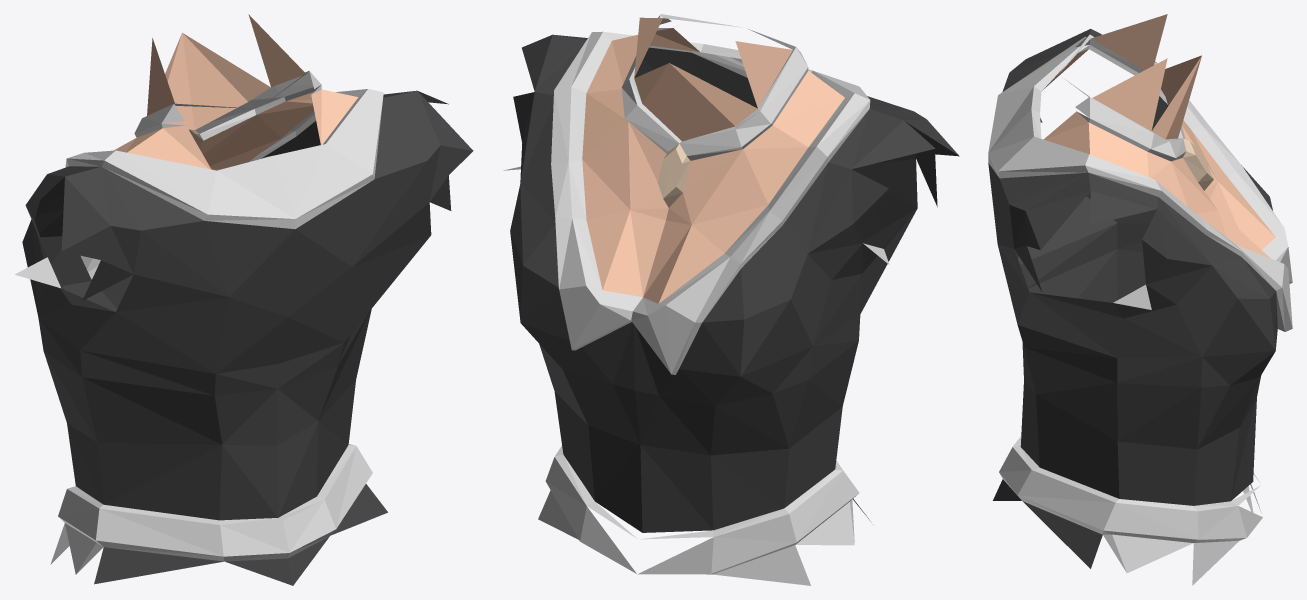
The model's file is Mother_01_Torso_0_04_A.obj.
3 views of the same model, side by side, from view 1: azimuth 30°, elevation 25°; view 2: azimuth 150°, elevation 25°; view 3: azimuth 270°, elevation 25° (orthographic). The views are drawn at different scales.
Parts seen in each view (by area): view 1: Mother_01_Torso_0_04_A; view 2: Mother_01_Torso_0_04_A; view 3: Mother_01_Torso_0_04_A.
Part boxes in pixels (x1=…): Mother_01_Torso_0_04_A: x1=15, y1=14, x2=473, y2=585; Mother_01_Torso_0_04_A: x1=503, y1=14, x2=959, y2=585; Mother_01_Torso_0_04_A: x1=988, y1=14, x2=1292, y2=585.
Size of the model in its own units: 0.4676 by 0.5543 by 0.3142.
Materials: 1 (1 with a texture image).
